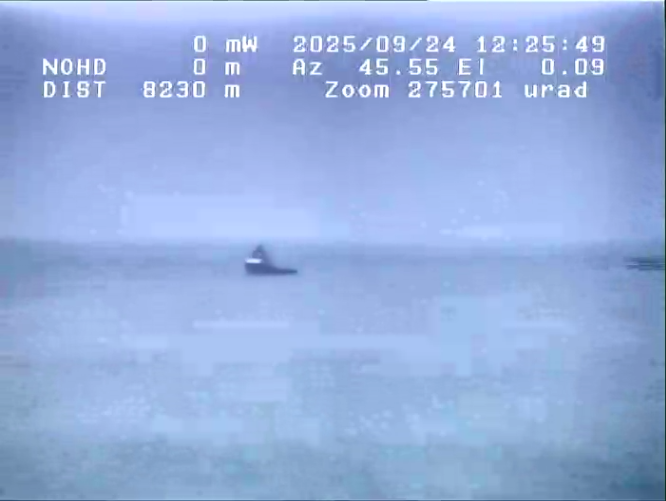OFFSHORE_SUPPLY_VESSEL: (244, 231, 311, 297)
